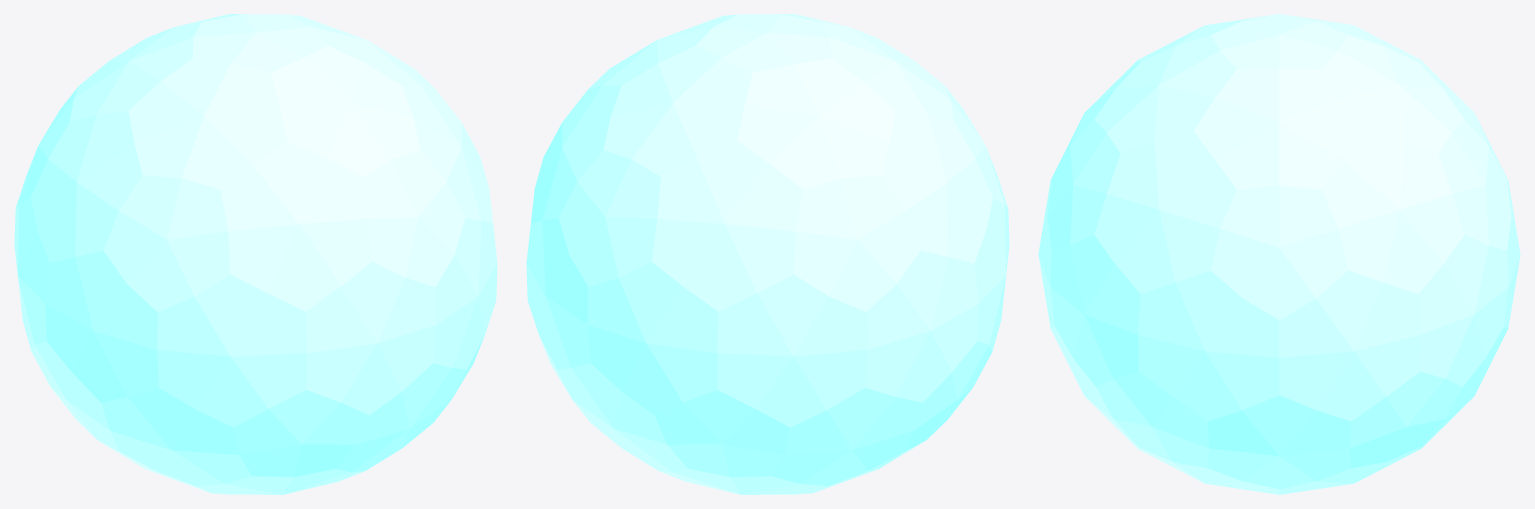
Rendered from wallet.glb.
3 renders of one model, left to right at view 1: azimuth 30°, elevation 25°; view 2: azimuth 150°, elevation 25°; view 3: azimuth 270°, elevation 25°, orthographic.
Parts seen in each view (by area): view 1: Wallet_Shell; view 2: Wallet_Shell; view 3: Wallet_Shell.
Boxes of the visible parts, <box> form: Wallet_Shell: <box>14,14,497,494</box>; Wallet_Shell: <box>526,14,1009,494</box>; Wallet_Shell: <box>1038,14,1520,494</box>.
Bounding box in the file's own units: 0.9232 × 0.9303 × 0.9249.
